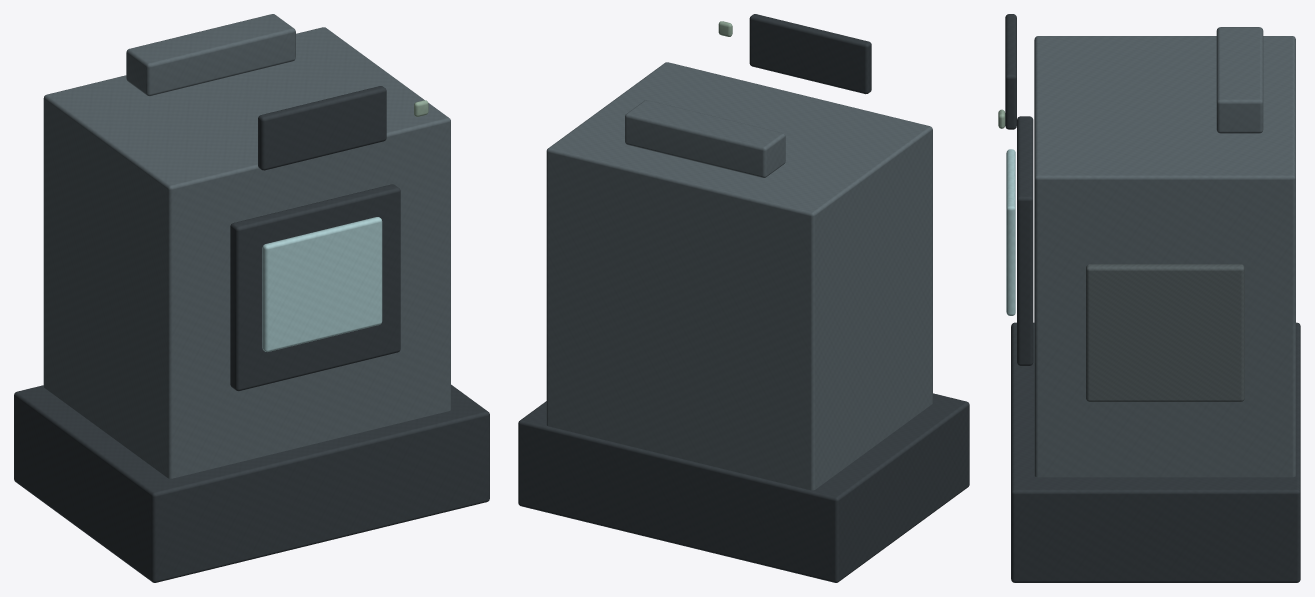
File: PortableSpecimenScanner.fbx
3 views of the same model, side by side, from view 1: azimuth 30°, elevation 25°; view 2: azimuth 150°, elevation 25°; view 3: azimuth 270°, elevation 25° (orthographic). The views are drawn at different scales.
Parts seen in each view (by area): view 1: PortableSpecimenScanner_Mesh; view 2: PortableSpecimenScanner_Mesh; view 3: PortableSpecimenScanner_Mesh.
Part boxes in pixels (x1=…): PortableSpecimenScanner_Mesh: x1=14, y1=14, x2=489, y2=582; PortableSpecimenScanner_Mesh: x1=518, y1=14, x2=969, y2=582; PortableSpecimenScanner_Mesh: x1=998, y1=14, x2=1300, y2=582.
Size of the model in its own units: 86 by 108 by 64.75.
